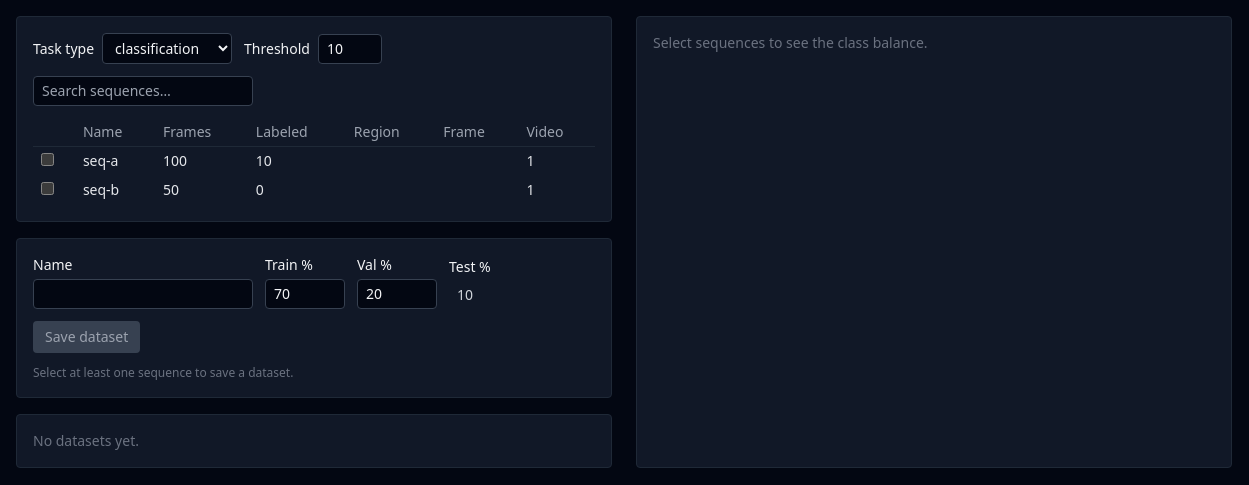
Test case: DatasetsPage › disables saving with zero sequences selected, and enables once one is picked
Type "my-dataset" into the field labelled "Name" at (143, 294), box top-left (33, 279), bottom-right (253, 309)
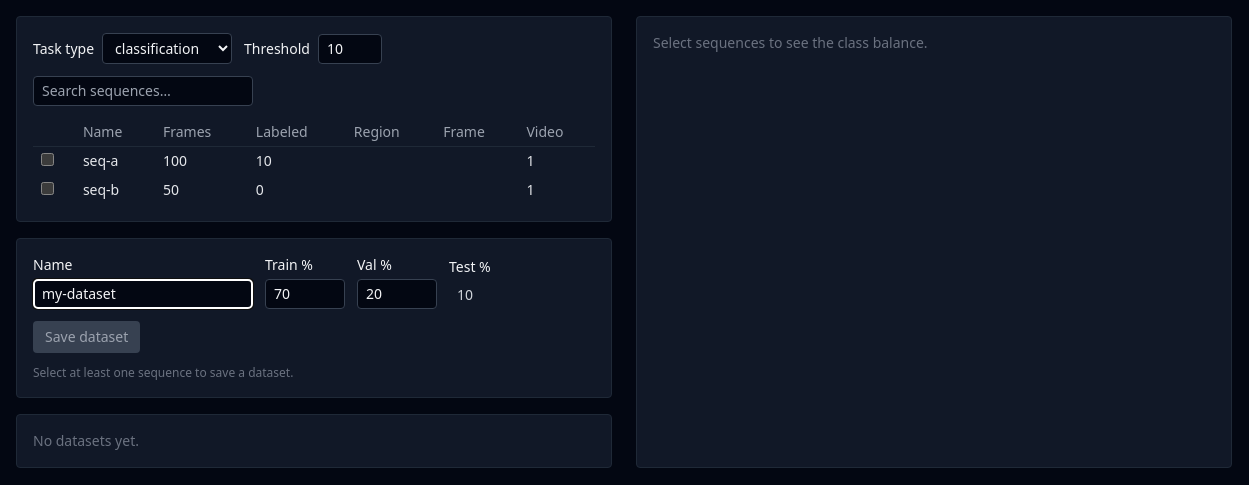
Expected: the button "Save dataset" is disabled, top-left (33, 321), bottom-right (140, 353)
Click the checkbox named "select seq-a" at (48, 160), box top-left (41, 153), bottom-right (54, 166)
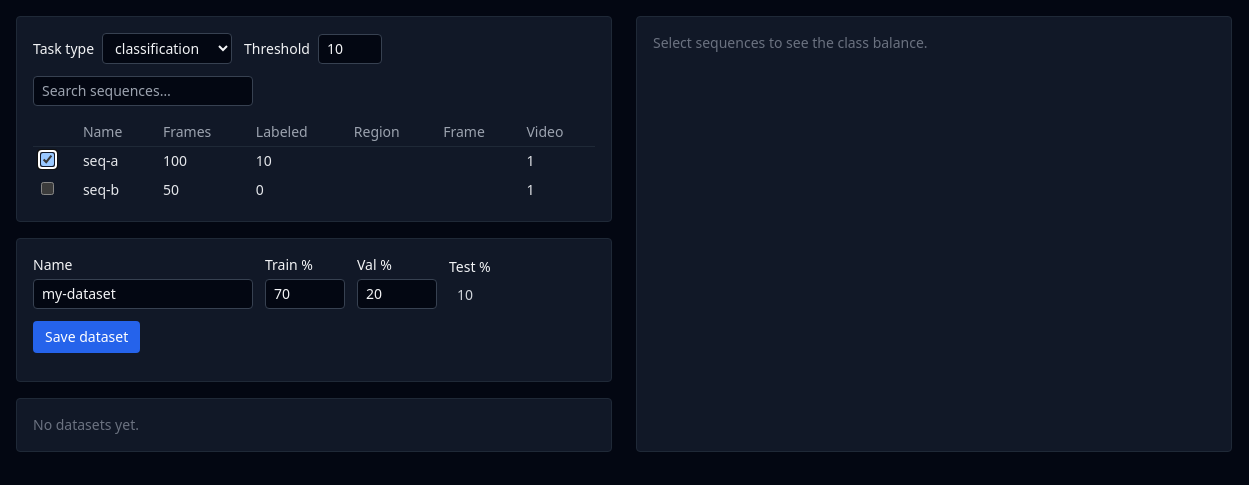
Expected: the button "Save dataset" is enabled, top-left (33, 321), bottom-right (140, 353)
